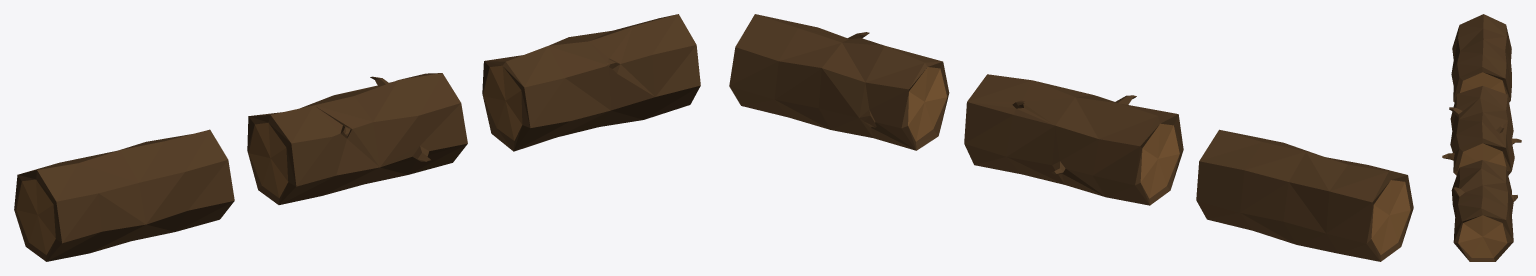
Rendered from SM_logs_DP.fbx.
The picture shows the model from 3 angles, left to right: view 1: azimuth 30°, elevation 25°; view 2: azimuth 150°, elevation 25°; view 3: azimuth 270°, elevation 25°; orthographic projection. The views are drawn at different scales.
Parts seen in each view (by area): view 1: SM_log_2_DP, SM_log_3_DP, SM_log_1_DP; view 2: SM_log_2_DP, SM_log_3_DP, SM_log_1_DP; view 3: SM_log_3_DP, SM_log_2_DP, SM_log_1_DP.
Boxes of the visible parts, box(x1,y1,x2,y2) form: SM_log_2_DP: box(247, 73, 467, 204); SM_log_3_DP: box(482, 14, 700, 151); SM_log_1_DP: box(14, 129, 234, 261); SM_log_2_DP: box(964, 74, 1183, 205); SM_log_3_DP: box(729, 14, 949, 150); SM_log_1_DP: box(1196, 129, 1413, 261); SM_log_3_DP: box(1451, 160, 1517, 261); SM_log_2_DP: box(1442, 86, 1521, 175); SM_log_1_DP: box(1451, 14, 1511, 102).
Size of the model in its own units: 15.58 by 2.08 by 2.67.
